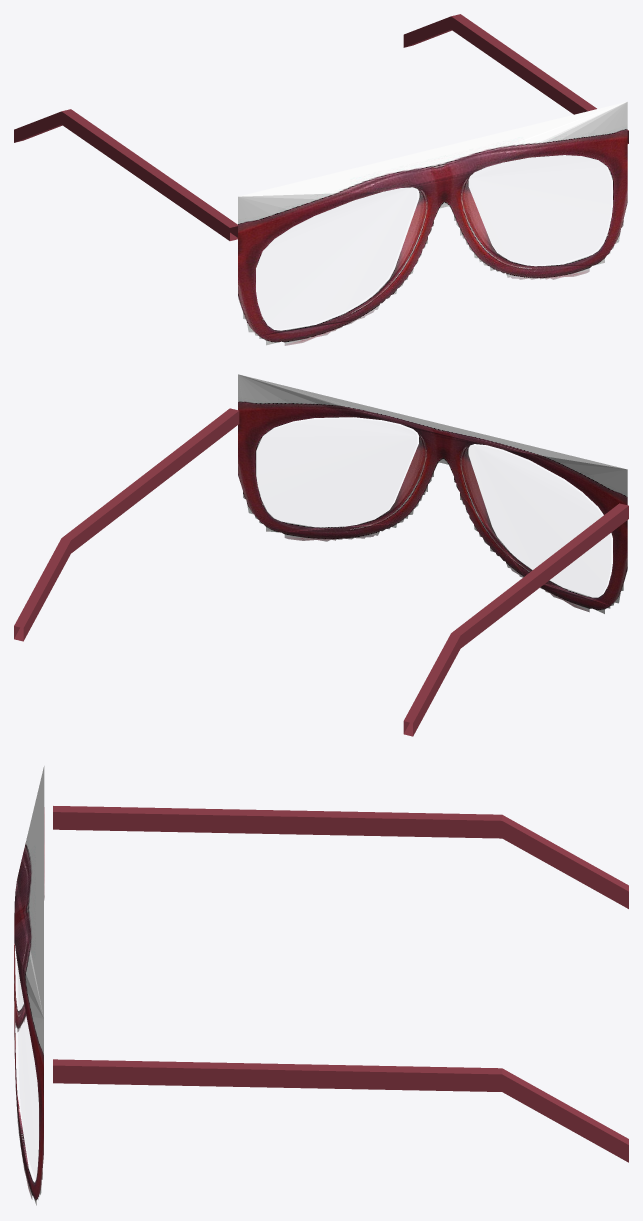
Rendered from gothamstyle-236_matte-red.glb.
3 renders of one model, top to bottom at view 1: azimuth 30°, elevation 25°; view 2: azimuth 150°, elevation 25°; view 3: azimuth 270°, elevation 25°, orthographic. The views are drawn at different scales.
Parts seen in each view (by area): view 1: frame_front, temple_viewer_left, temple_viewer_right; view 2: frame_front, temple_viewer_left, temple_viewer_right; view 3: temple_viewer_right, temple_viewer_left, frame_front.
Boxes of the visible parts, left/top/right/bottom form: frame_front: left=238, top=101, right=627, bottom=345; temple_viewer_left: left=14, top=109, right=237, bottom=240; temple_viewer_right: left=403, top=14, right=628, bottom=143; frame_front: left=238, top=374, right=627, bottom=613; temple_viewer_left: left=403, top=503, right=628, bottom=736; temple_viewer_right: left=14, top=408, right=239, bottom=641; temple_viewer_right: left=53, top=1059, right=628, bottom=1162; temple_viewer_left: left=53, top=806, right=628, bottom=908; frame_front: left=14, top=766, right=44, bottom=1205.
Bounding box in the file's own units: 0.1259 × 0.0474 × 0.126.
Materials: 3 (2 with a texture image).
